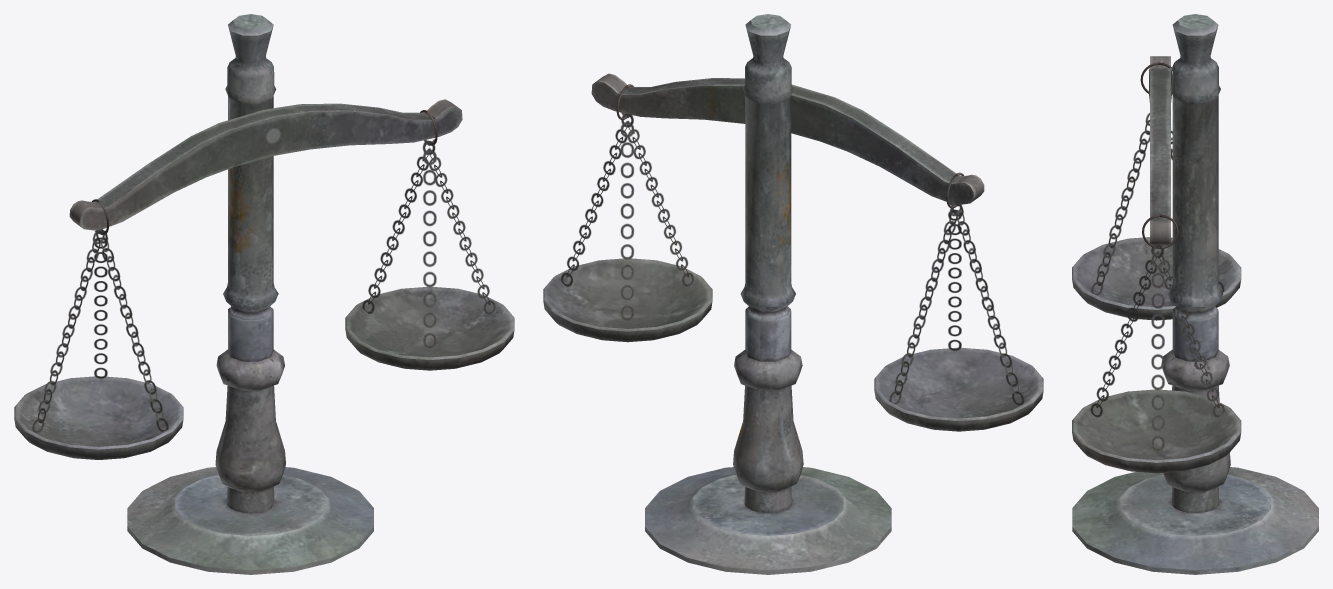
The model's file is scales.glb.
The picture shows the model from 3 angles, left to right: view 1: azimuth 30°, elevation 25°; view 2: azimuth 150°, elevation 25°; view 3: azimuth 270°, elevation 25°; orthographic projection.
Visible parts, largest first — view 1: BeamMesh, Base; view 2: Base, BeamMesh; view 3: Base, BeamMesh.
Part boxes in pixels (left/top/right/bottom): BeamMesh: left=14, top=99, right=514, bottom=459; Base: left=127, top=14, right=373, bottom=574; Base: left=645, top=14, right=891, bottom=574; BeamMesh: left=543, top=73, right=1043, bottom=431; Base: left=1072, top=14, right=1318, bottom=574; BeamMesh: left=1072, top=56, right=1241, bottom=473.
Bounding box in the file's own units: 35.24 × 35.13 × 15.7.
Materials: 1 (1 with a texture image).
